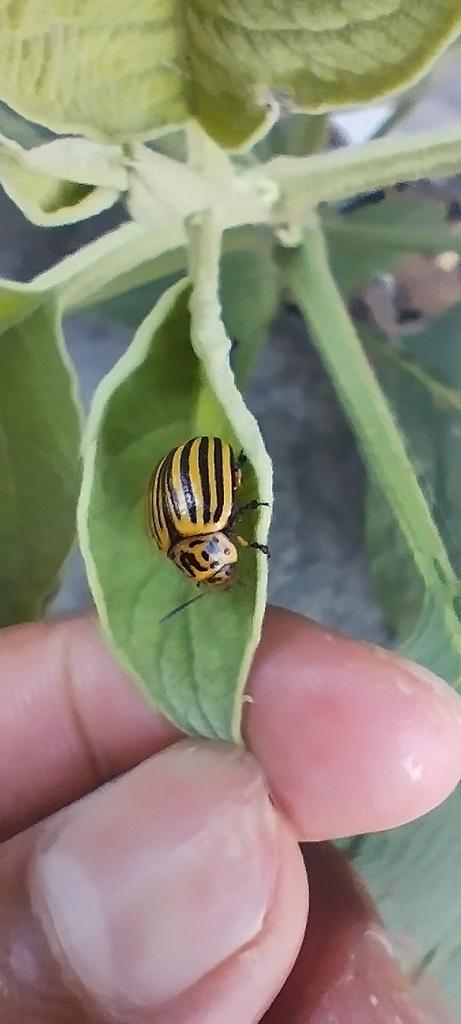potato_beetle: (109, 416, 306, 653)
